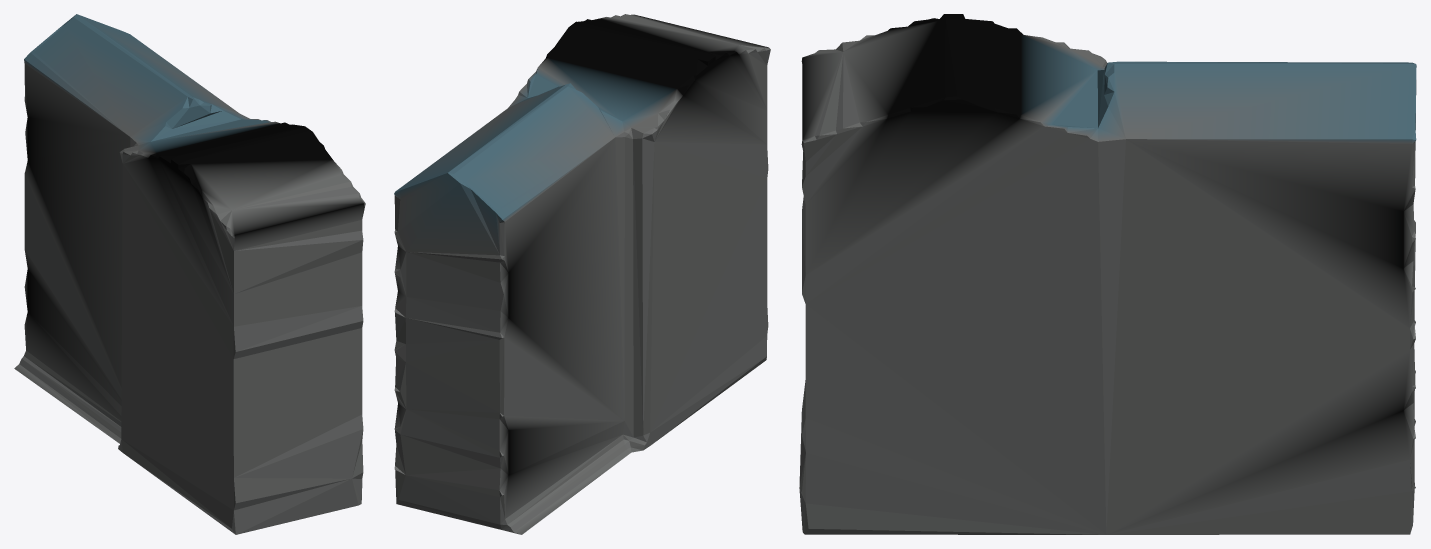
The model's file is Apartment Buildings(1).glb.
The picture shows the model from 3 angles, left to right: view 1: azimuth 30°, elevation 25°; view 2: azimuth 150°, elevation 25°; view 3: azimuth 270°, elevation 25°; orthographic projection. The views are drawn at different scales.
Parts seen in each view (by area): view 1: Root; view 2: Root; view 3: Root.
Boxes of the visible parts, bbox=[...] form: Root: bbox=[14, 14, 365, 534]; Root: bbox=[394, 14, 770, 534]; Root: bbox=[799, 14, 1416, 534].
Bounding box in the file's own units: 11.63 × 27.73 × 35.05.
